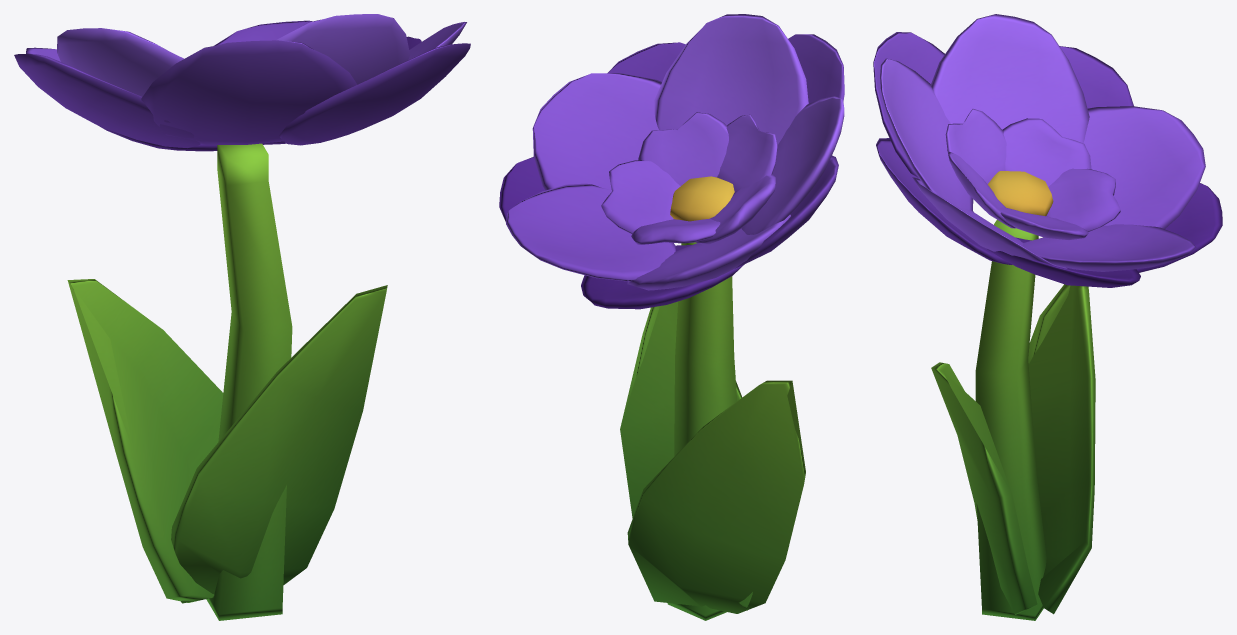
File: FlorVioleta.fbx
3 renders of one model, left to right at view 1: azimuth 30°, elevation 25°; view 2: azimuth 150°, elevation 25°; view 3: azimuth 270°, elevation 25°, orthographic. The views are drawn at different scales.
Parts seen in each view (by area): view 1: Flor2a; view 2: Flor2a; view 3: Flor2a.
Boxes of the visible parts, x1=… form: Flor2a: x1=14, y1=14, x2=470, y2=620; Flor2a: x1=499, y1=14, x2=844, y2=620; Flor2a: x1=873, y1=14, x2=1222, y2=620.
Bounding box in the file's own units: 74.1 × 117 × 68.01.
